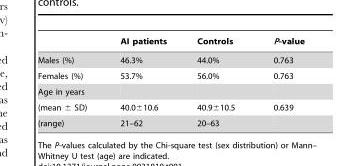table: (37, 36, 303, 127)
table column: (102, 36, 181, 127), (181, 36, 253, 127), (37, 36, 102, 127), (253, 36, 303, 127)
table column header: (37, 36, 303, 50)
table projected row header: (37, 83, 303, 99)
table row: (37, 50, 303, 67), (37, 67, 303, 83), (37, 83, 303, 99), (37, 99, 303, 115), (37, 36, 303, 50), (37, 115, 303, 127)
